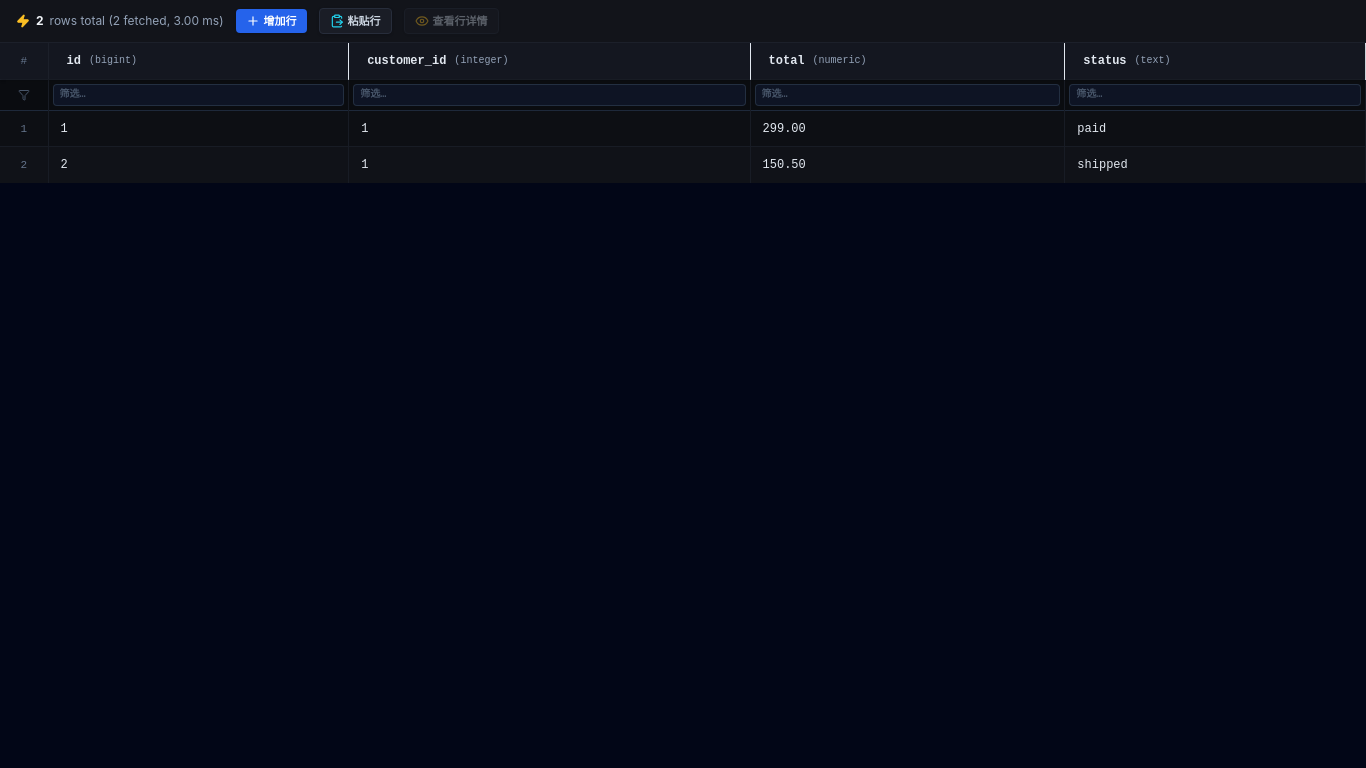
it: WP9-P2-7: DataGrid 粘贴多行 TSV › 剪贴板为空 → 弹提示 (appDialog 渲染, 不静默)
The width and height of the screenshot is (1366, 768).
Check: the text "paid" is shown, box [1077,122,1106,136]
Click the button with test id "paste-rows-btn".
click(355, 21)  # box [319,8,392,34]
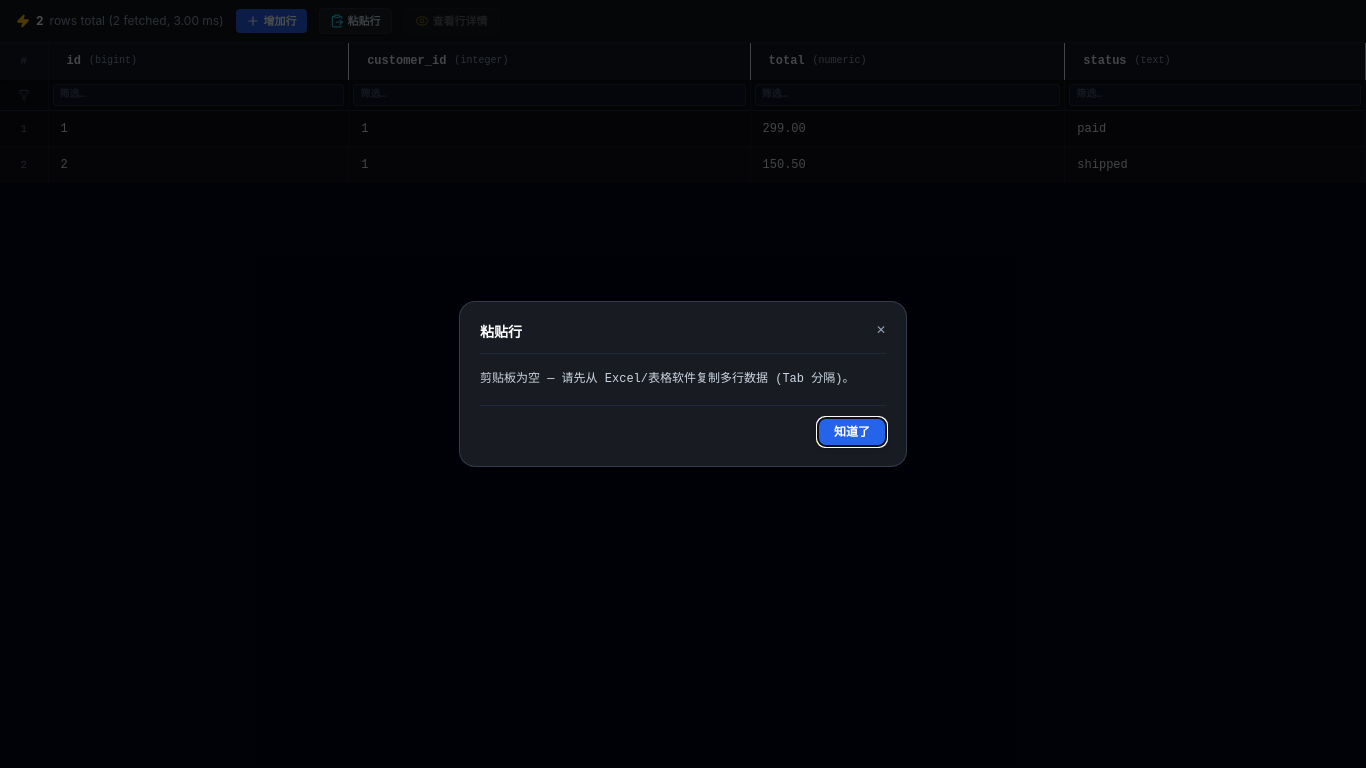
Check: the text "剪贴板为空" is shown, box [480,372,854,386]
